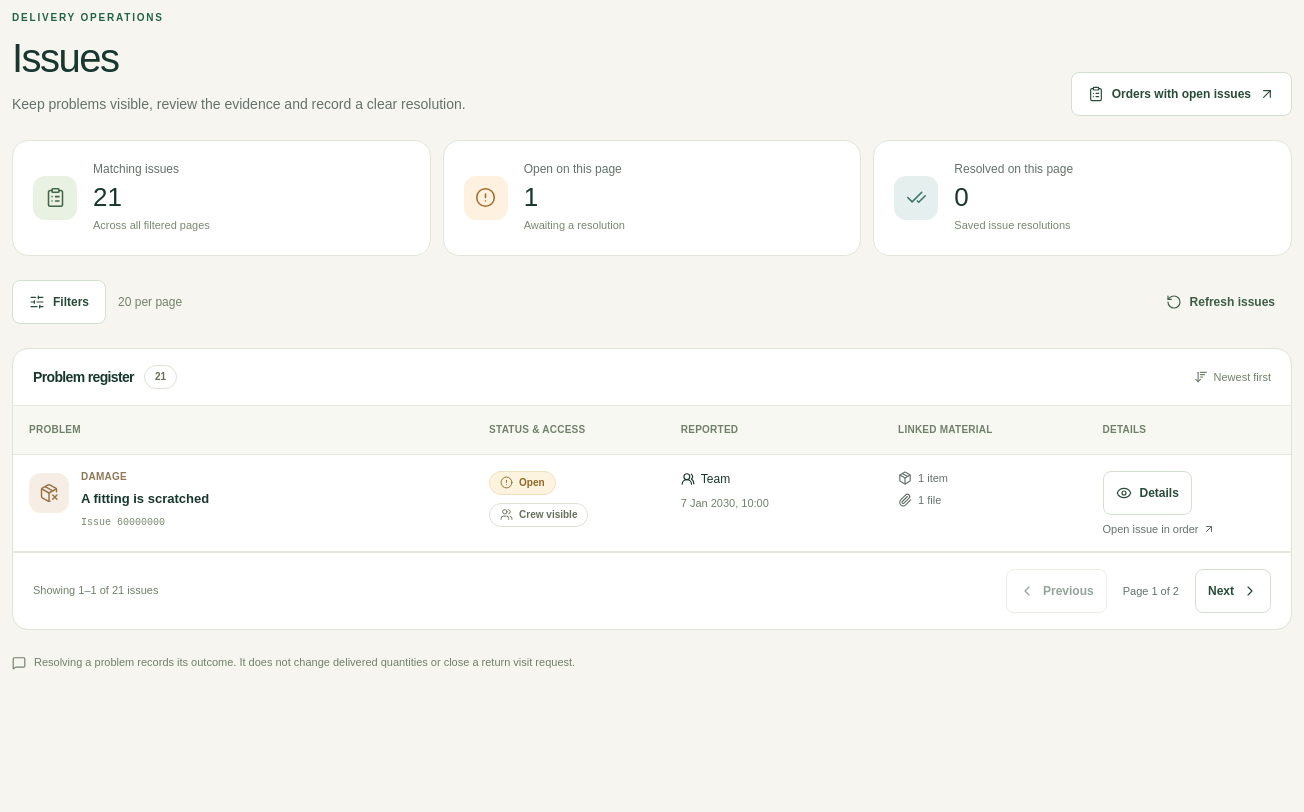
Test: Backoffice issue directory › retains saved list data on a transient failure without marking an empty result
Expected: the text "A fitting is scratched" is shown, [81, 488, 209, 509]
Click the button "Refresh issues": (1220, 302) [1149, 280, 1292, 324]
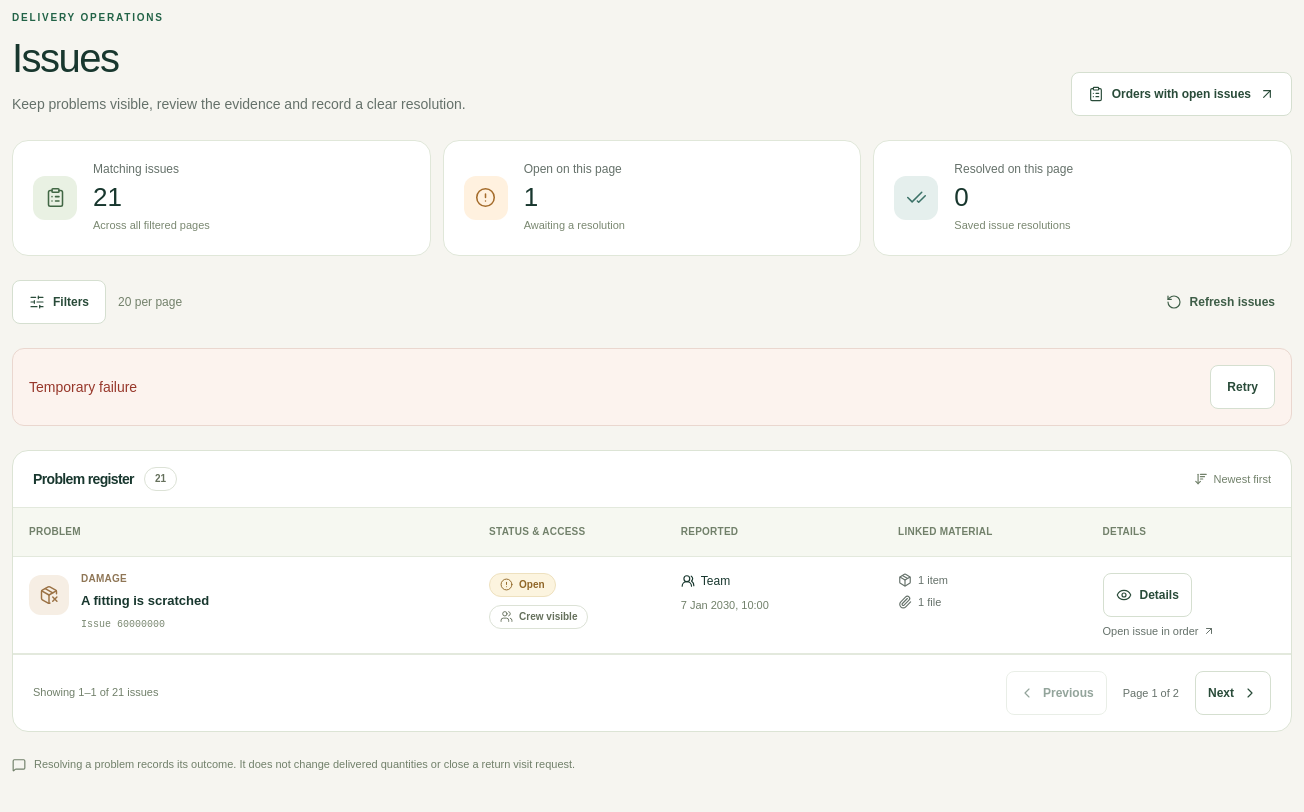
Expected: the text "A fitting is scratched" is shown, [81, 590, 209, 611]
Expected: the message "Temporary failure" is shown, [29, 377, 137, 397]
